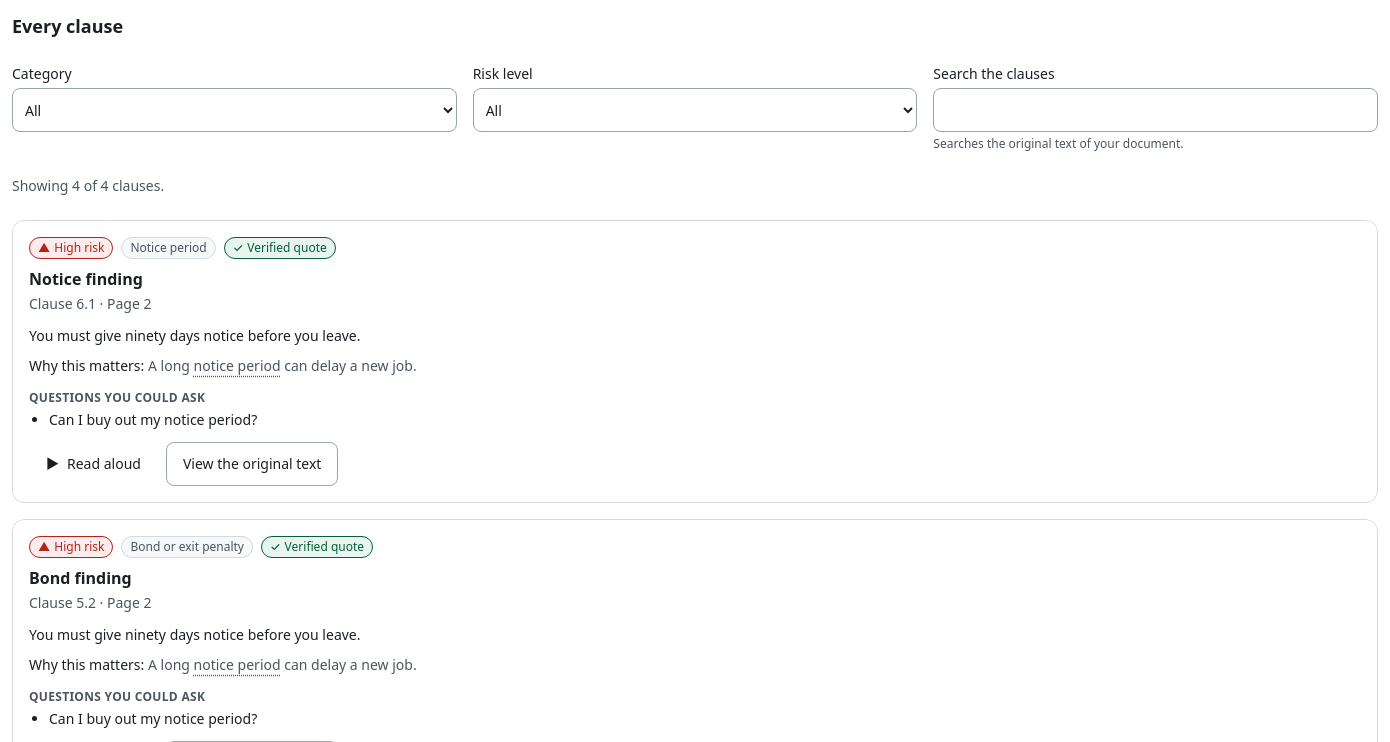
Test: ClauseList › with clauses that have no findings › hides clauses without findings once a category or risk filter is chosen
Select "Background" in the dropdown labelled "Risk level" at coordinates (695, 110), box [473,88,917,132]
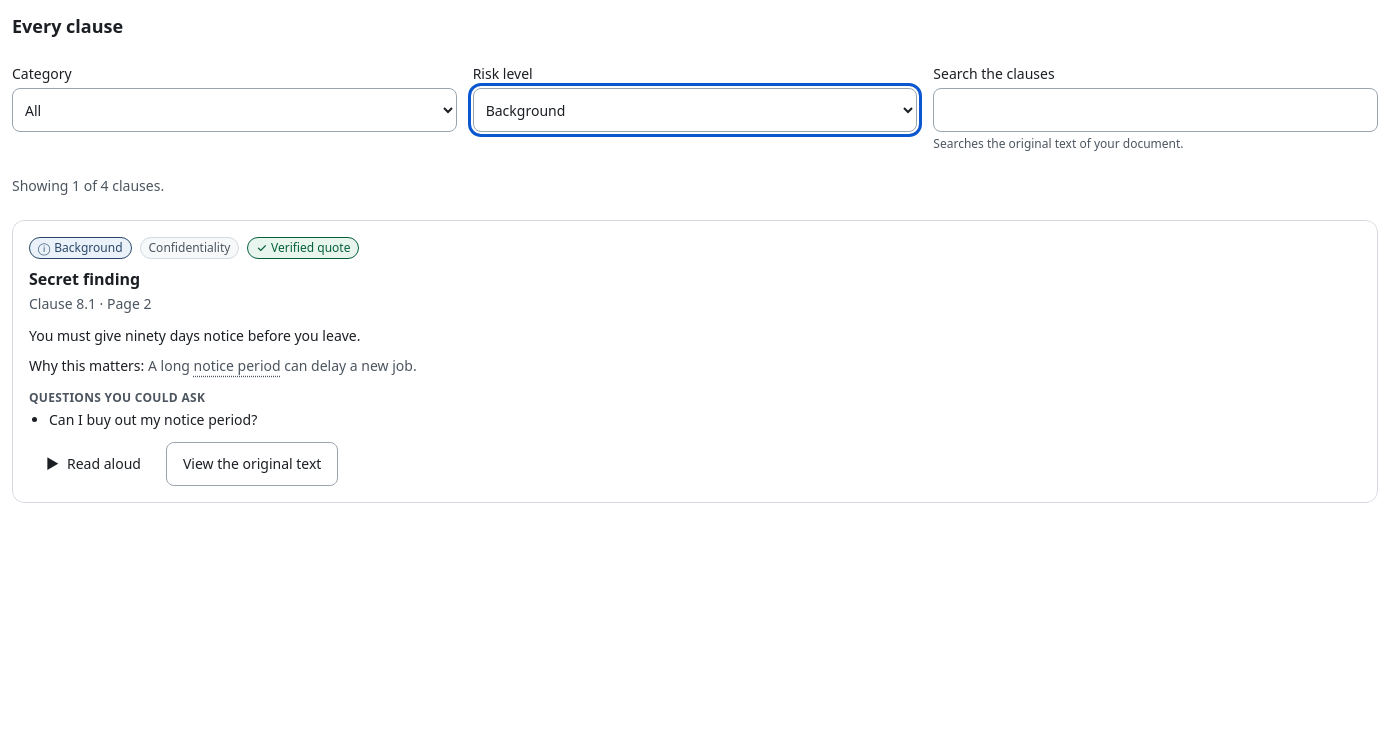
Result: the text "Showing 1 of 4 clauses." is shown at [12,176,164,195]
